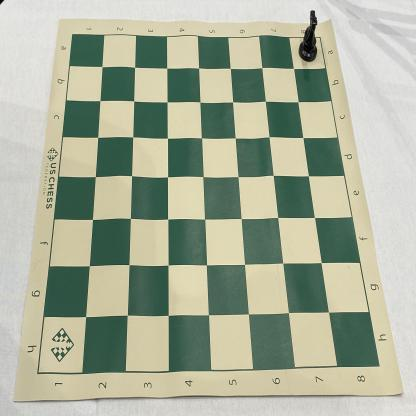black-knight: (298, 10, 319, 63)
